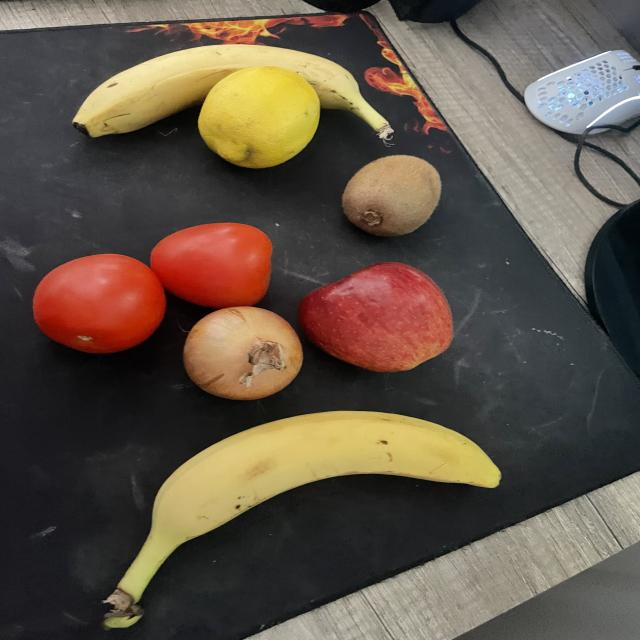apple: (298, 262, 453, 372)
banana: (103, 411, 500, 630), (73, 45, 388, 139)
kiwi: (342, 155, 442, 236)
lemon: (198, 66, 320, 169)
tomato: (33, 254, 165, 354), (150, 222, 272, 309)
